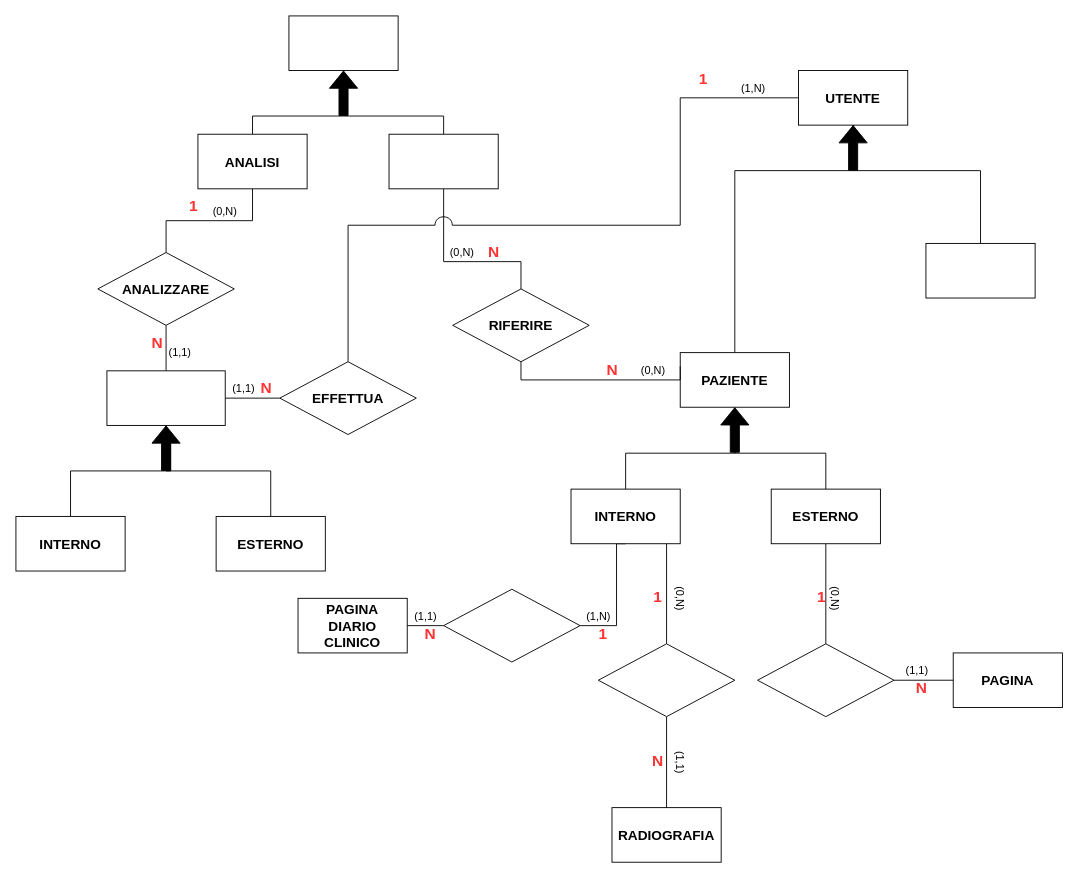
Some shapes in this 1078 by 878 pixel diagram are drawn without their labels. The centre of each missing label's shape, as x and y in pixels:
"AGENTE SANITARIO" goes at pixel 980 270.
"AVERE" goes at pixel 511 625.
"COMPILA" goes at pixel 825 680.
"QUARANTENA" goes at pixel 443 161.
"STRUTTURA" goes at pixel 343 43.
"SVOLGERE" goes at pixel 666 680.
"TAMPONE" goes at pixel 165 397.
